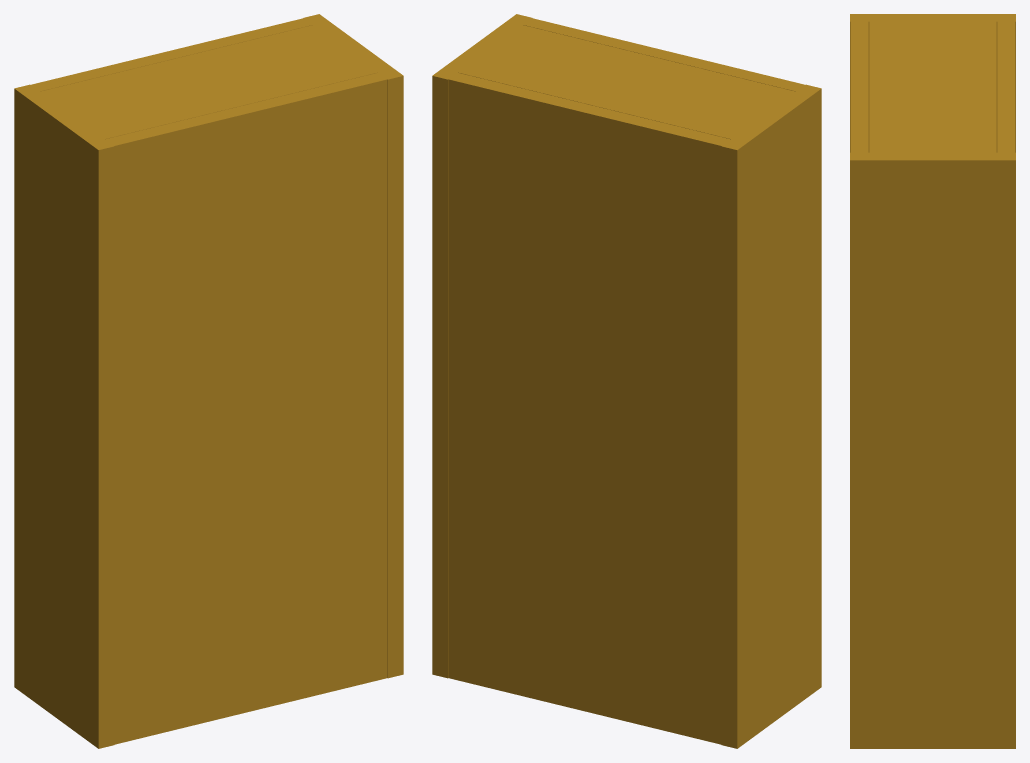
The model's file is crate-box.glb.
3 renders of one model, left to right at view 1: azimuth 30°, elevation 25°; view 2: azimuth 150°, elevation 25°; view 3: azimuth 270°, elevation 25°, orthographic.
Visible parts, largest first — view 1: box_front, box_side_L, box_top, box_side_R, box_back; view 2: box_back, box_side_L, box_top, box_side_R, box_front; view 3: box_side_R, box_top, box_back, box_front, box_side_L.
Boxes of the visible parts, x1=… form: box_front: x1=105, y1=72, x2=387, y2=744; box_side_L: x1=14, y1=84, x2=114, y2=748; box_top: x1=40, y1=25, x2=377, y2=139; box_side_R: x1=304, y1=14, x2=403, y2=678; box_back: x1=31, y1=18, x2=312, y2=91; box_back: x1=448, y1=72, x2=730, y2=744; box_side_L: x1=721, y1=84, x2=821, y2=748; box_top: x1=458, y1=25, x2=795, y2=139; box_side_R: x1=432, y1=14, x2=531, y2=678; box_front: x1=523, y1=18, x2=804, y2=91; box_side_R: x1=850, y1=152, x2=1015, y2=748; box_top: x1=869, y1=21, x2=996, y2=152; box_back: x1=997, y1=21, x2=1015, y2=152; box_front: x1=850, y1=21, x2=868, y2=152; box_side_L: x1=850, y1=14, x2=1015, y2=152.
Size of the model in its own units: 0.96 by 1.8 by 0.46.
